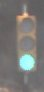Green: (11, 8, 38, 85)
